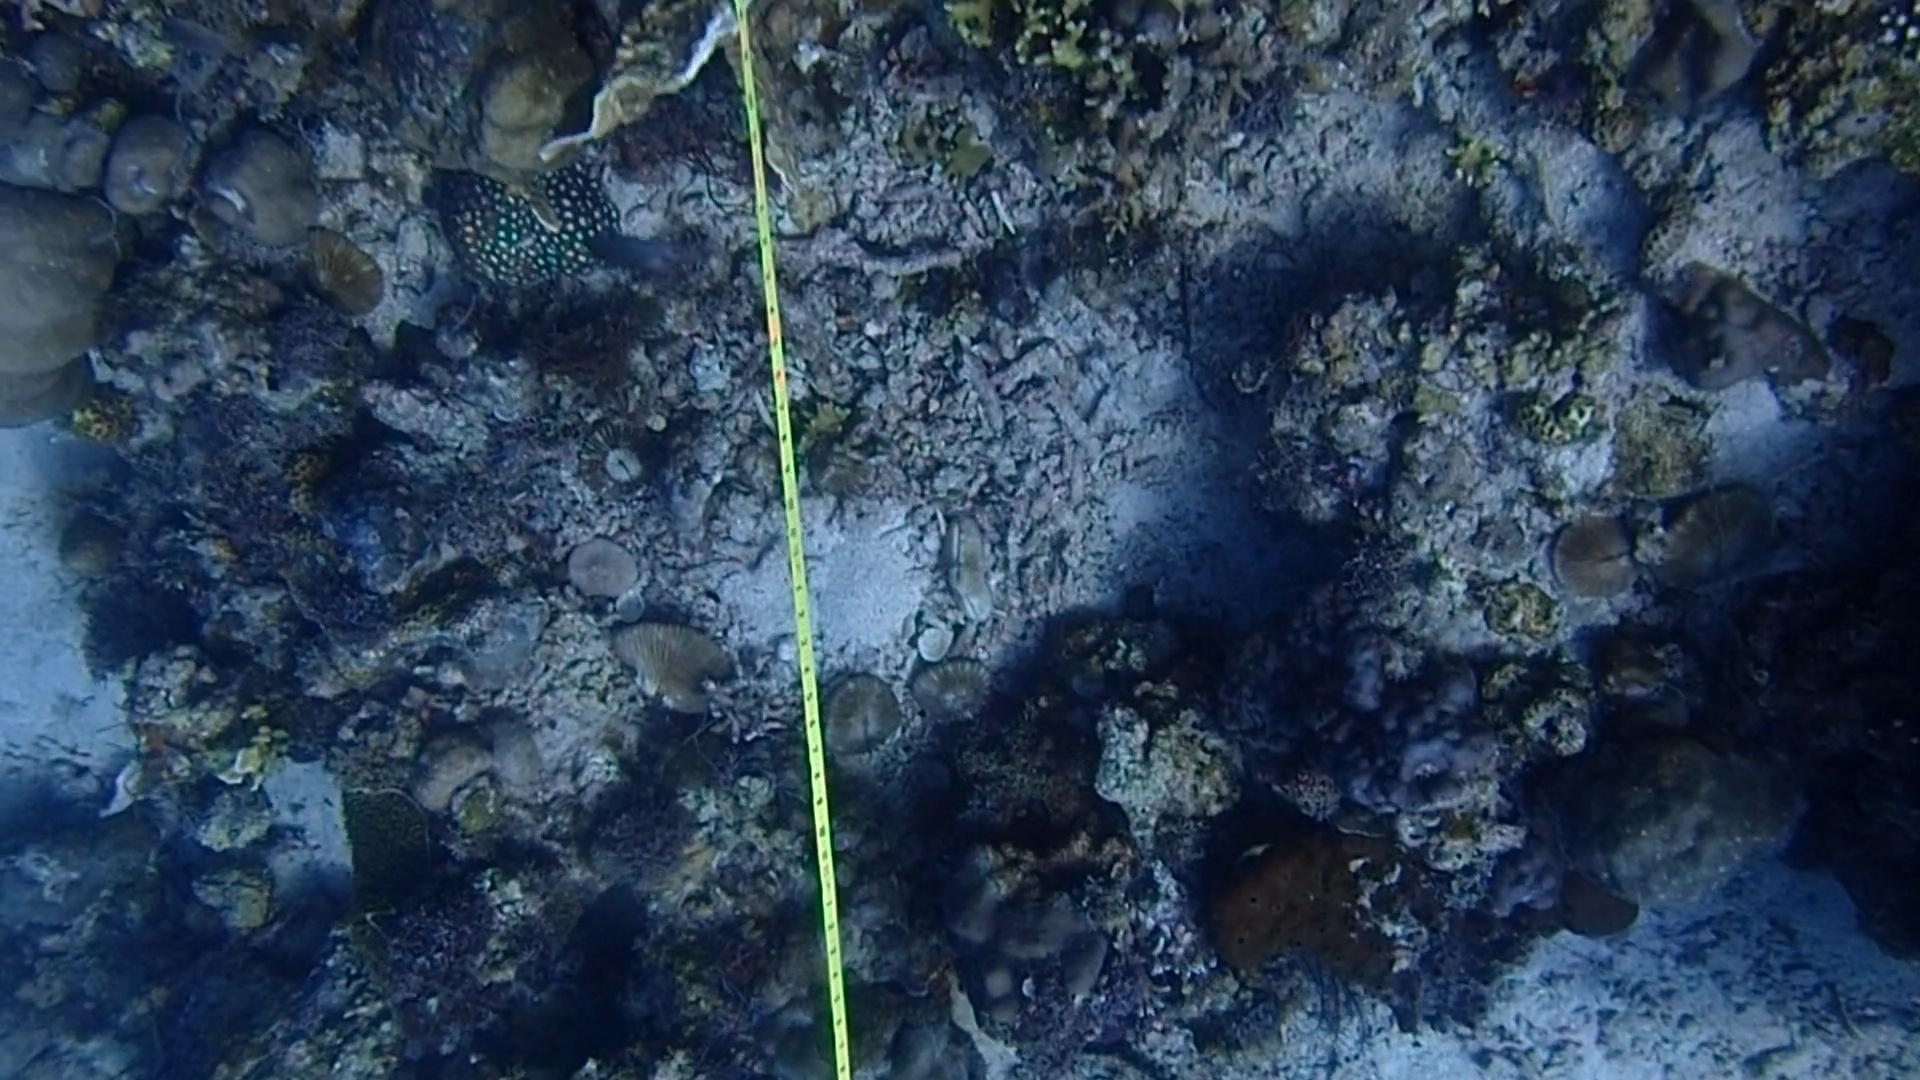Light Fish: (585, 223, 698, 294)
